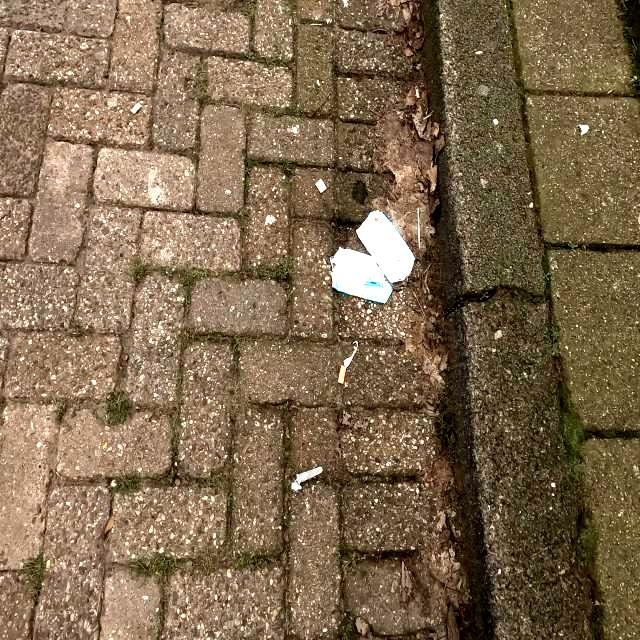Metal: (330, 250, 394, 304), (358, 213, 409, 277)
